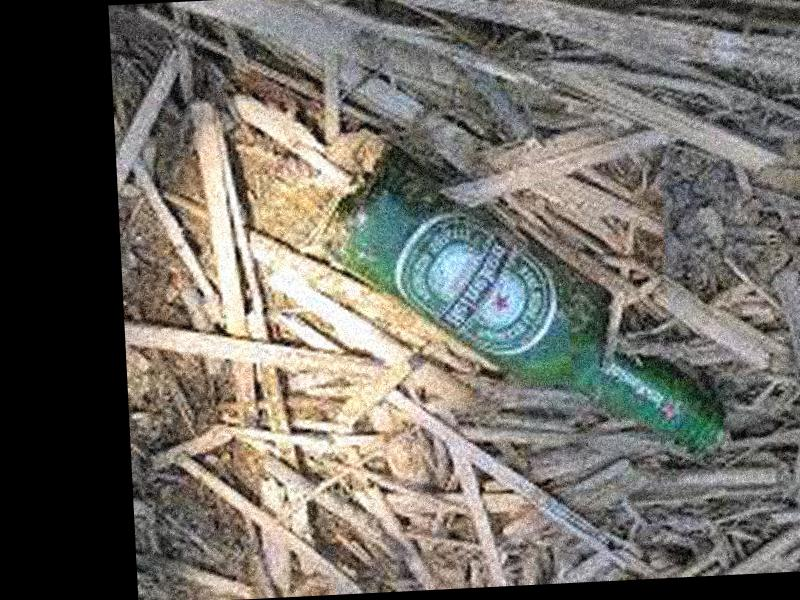Beer: (320, 135, 731, 467)
